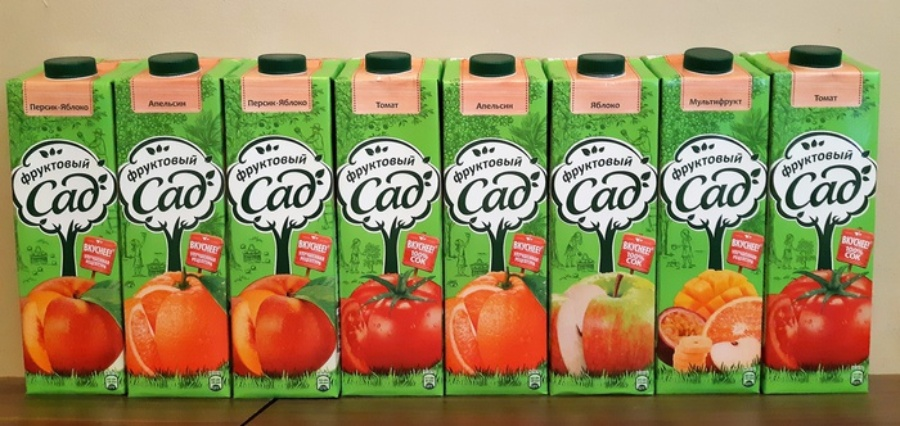juice: (4, 49, 145, 407), (747, 45, 886, 407), (221, 52, 353, 408), (648, 47, 776, 407), (323, 51, 452, 404), (430, 51, 558, 402), (115, 51, 238, 405), (538, 49, 658, 405)
